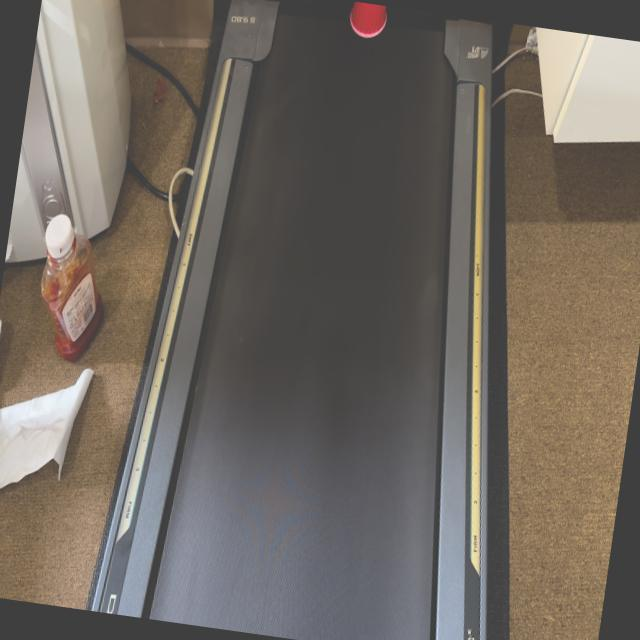Recycle: (332, 0, 412, 55)
